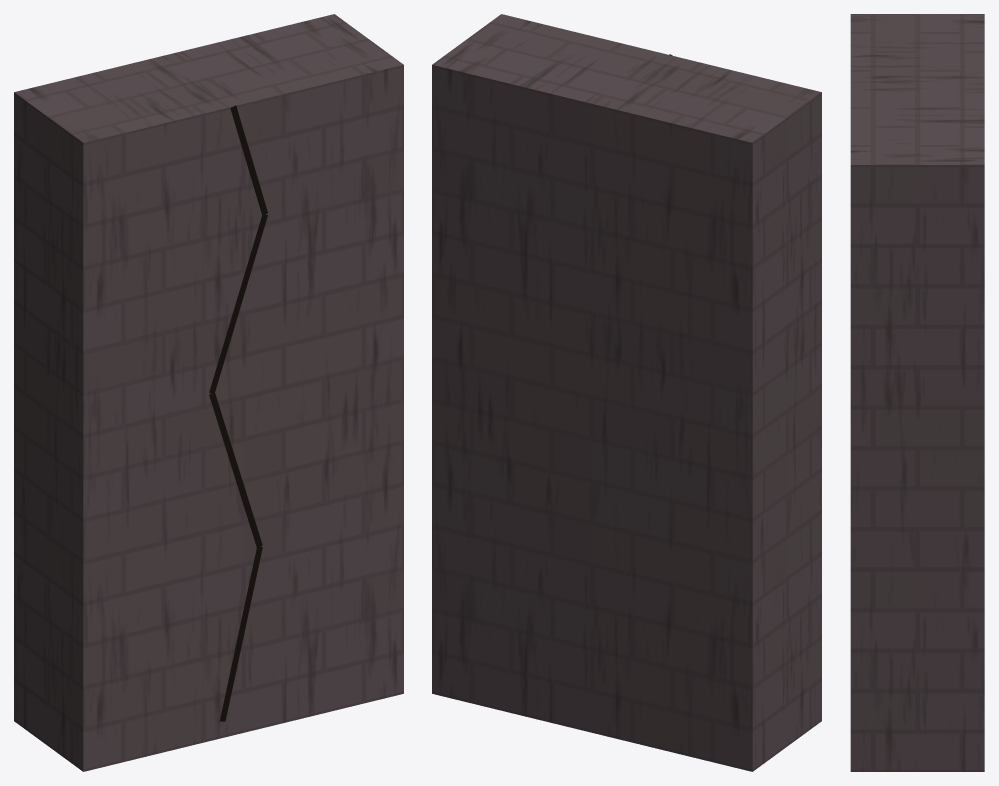
Rendered from SM_Souq_GateWall.fbx.
3 views of the same model, side by side, from view 1: azimuth 30°, elevation 25°; view 2: azimuth 150°, elevation 25°; view 3: azimuth 270°, elevation 25° (orthographic). The views are drawn at different scales.
Parts seen in each view (by area): view 1: SM_Souq_GateWall; view 2: SM_Souq_GateWall; view 3: SM_Souq_GateWall.
Boxes of the visible parts, x1,y1,x2,y2 form: SM_Souq_GateWall: (14, 14, 403, 771); SM_Souq_GateWall: (432, 14, 821, 771); SM_Souq_GateWall: (850, 14, 984, 771).
Size of the model in its own units: 1.6 by 3 by 0.602.
